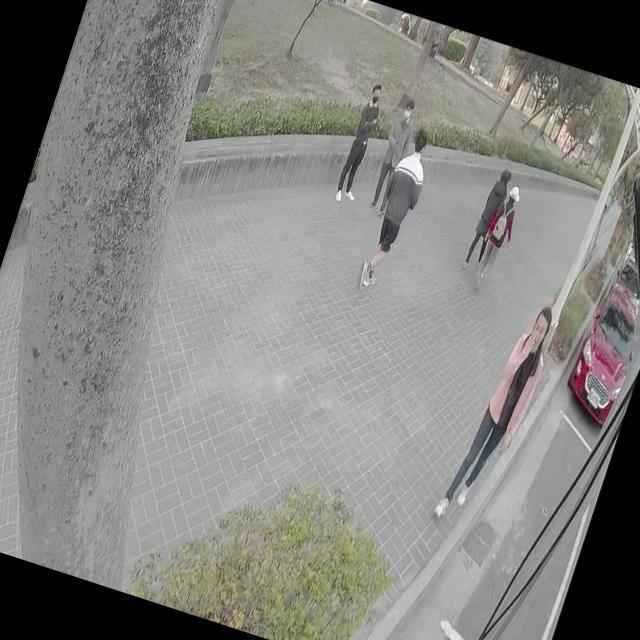person: (433, 292, 562, 532), (354, 124, 439, 299), (332, 80, 390, 204), (472, 182, 528, 292), (368, 98, 421, 211), (462, 166, 514, 274)
